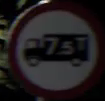Heavy Vehicles: (6, 5, 99, 86)
